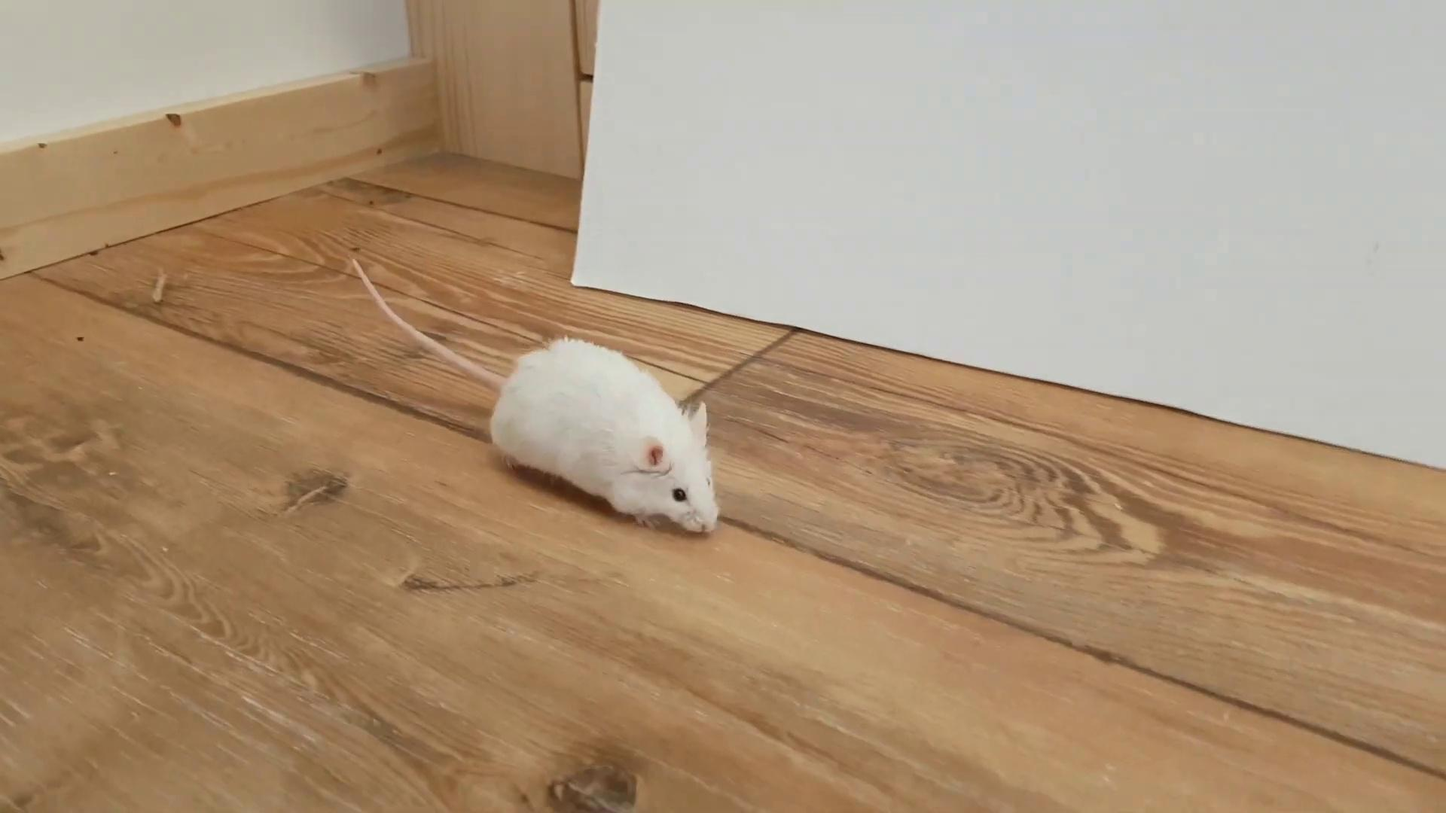rat: (352, 259, 721, 533)
